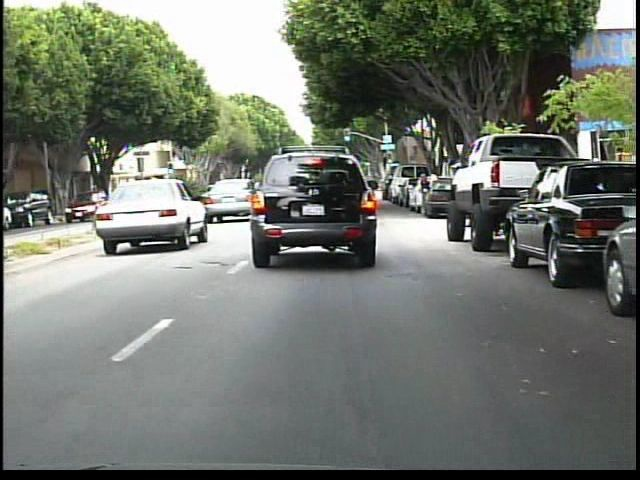person: (416, 172, 432, 220), (424, 166, 440, 209)
